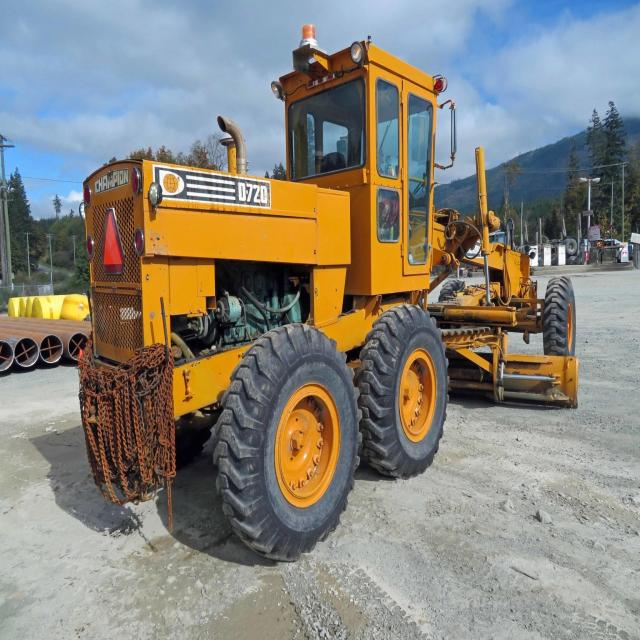Grader: (51, 19, 612, 555)
